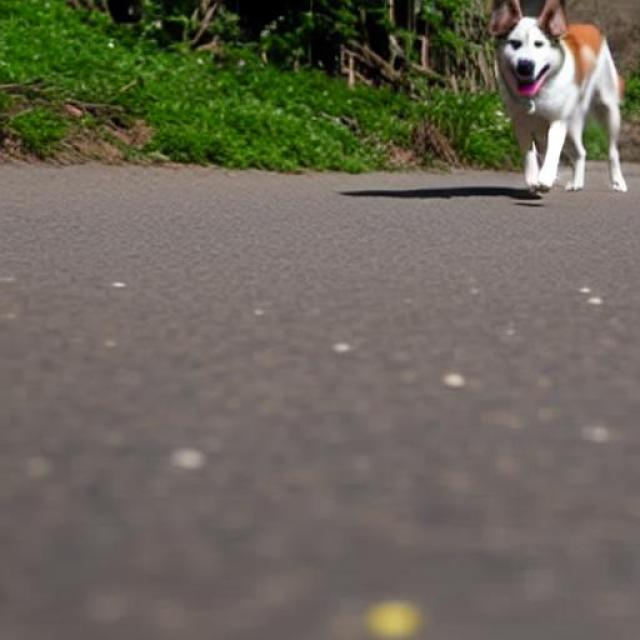Dog: (488, 0, 630, 194)
